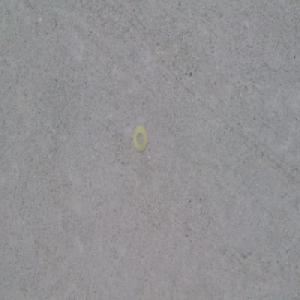Washer: (134, 124, 149, 153)
